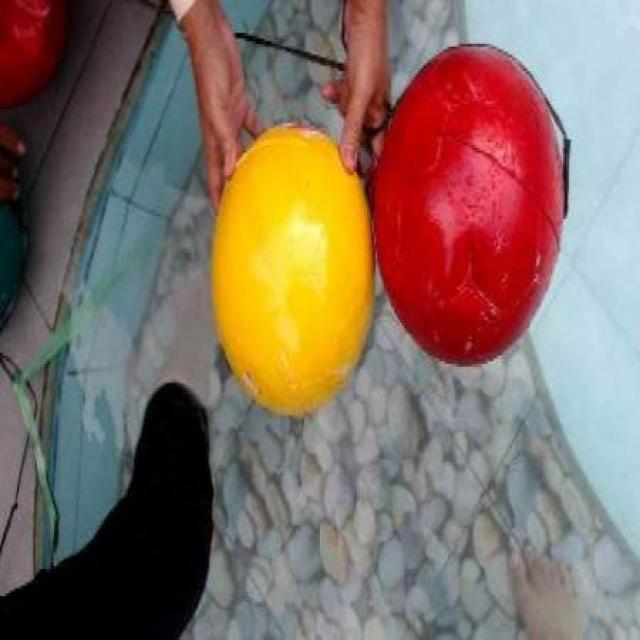buoy: (373, 41, 562, 364), (210, 118, 377, 412)
